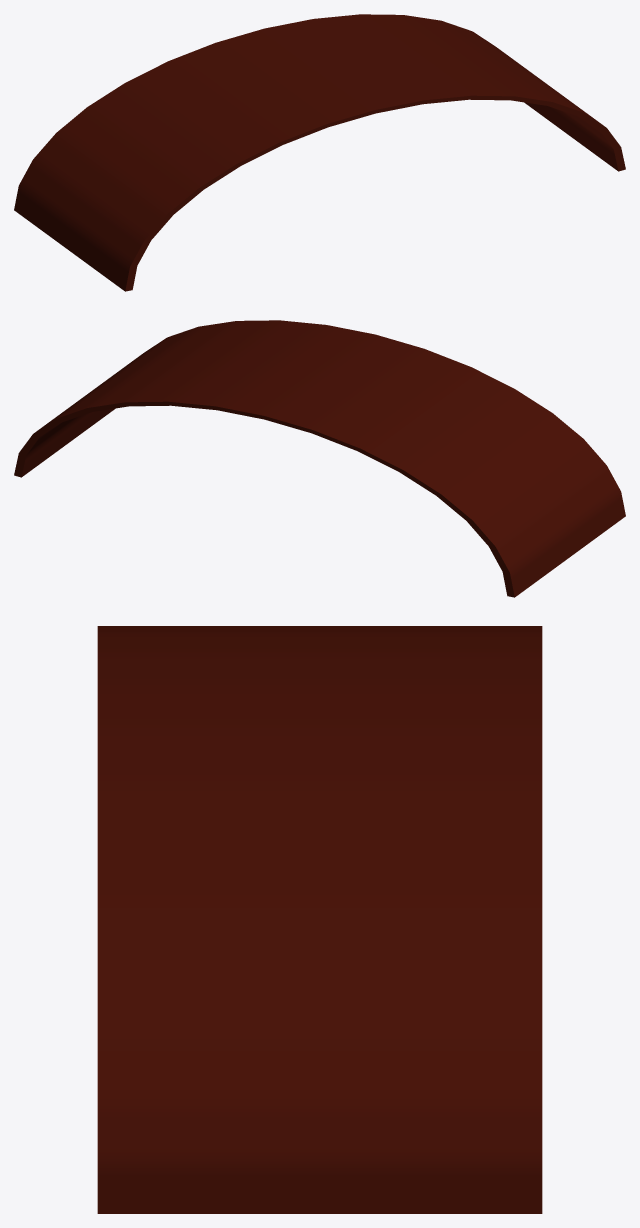
Rendered from Tunnel1.FBX.
3 views of the same model, one above another, from view 1: azimuth 30°, elevation 25°; view 2: azimuth 150°, elevation 25°; view 3: azimuth 270°, elevation 25° (orthographic). The views are drawn at different scales.
Parts seen in each view (by area): view 1: Tunnel1; view 2: Tunnel1; view 3: Tunnel1.
Boxes of the visible parts, <box> form: Tunnel1: <box>14,14,625,291</box>; Tunnel1: <box>14,320,625,597</box>; Tunnel1: <box>97,626,542,1213</box>.
Size of the model in its own units: 2600 by 1000 by 600.
